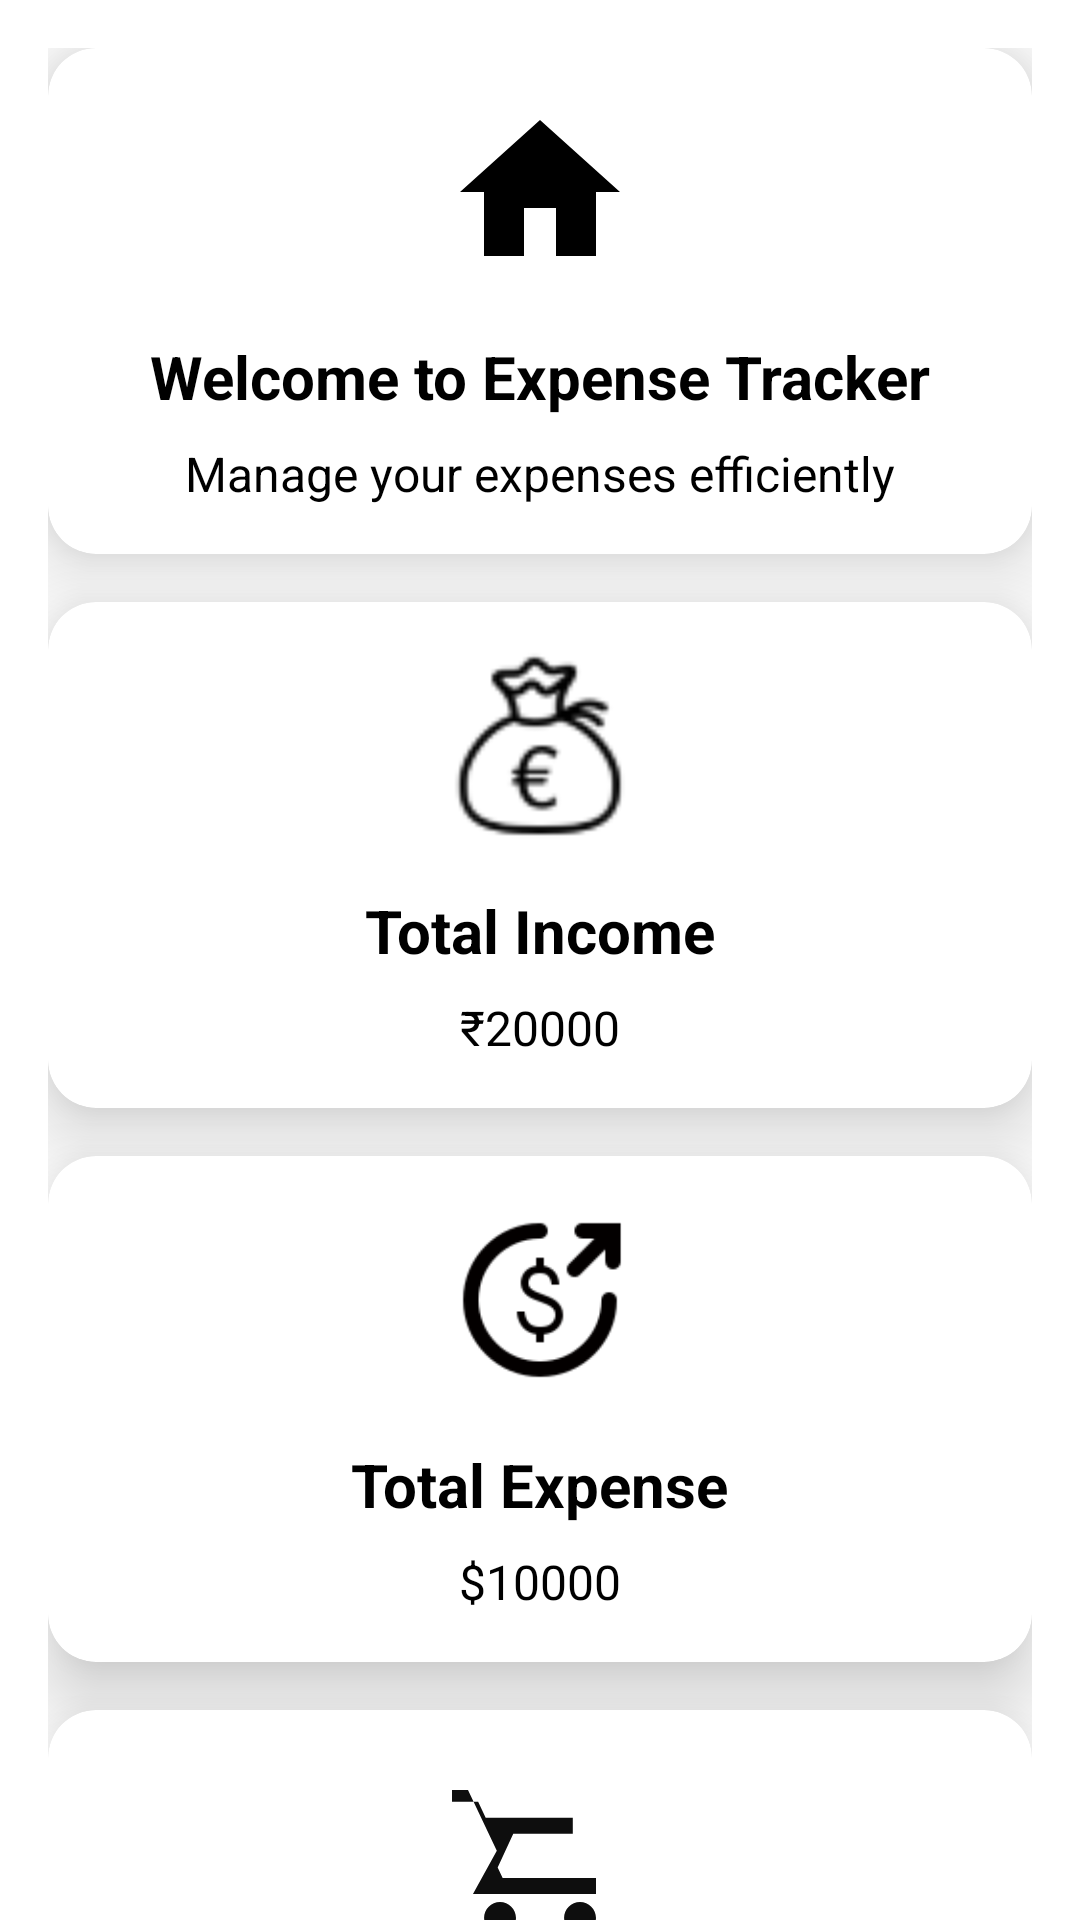

Icons on this 1080*1920 Android screen, each with its box as bbox=(x1, y1, x2, y2):
Home: bbox=(460, 120, 620, 256)
money: bbox=(456, 656, 622, 836)
